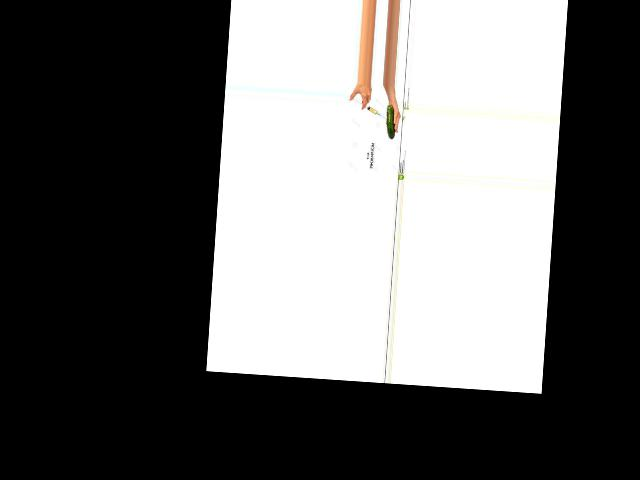cucumber: (385, 104, 396, 139)
